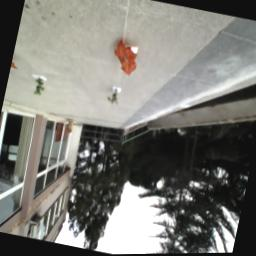herb: (106, 85, 124, 109), (33, 75, 49, 98)
wild: (109, 39, 142, 79)
